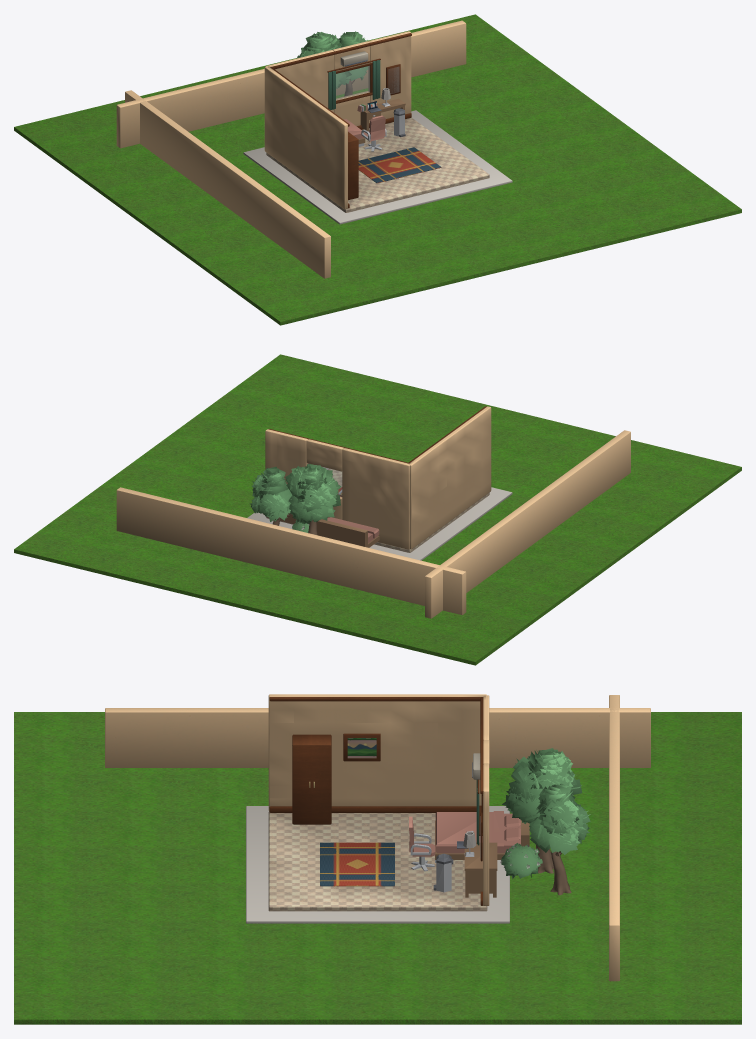
The model's file is kamar_art_large.glb.
The picture shows the model from 3 angles, top to bottom: view 1: azimuth 30°, elevation 25°; view 2: azimuth 150°, elevation 25°; view 3: azimuth 270°, elevation 25°; orthographic projection. The views are drawn at different scales.
Visible parts, largest first — view 1: OuterYard, YardFenceLeft, YardFenceBack, WallLeft, FloorSlab, YardPatio, WallBack_Right, CozyRug, WallBack_Left, WinGlass, CommonTree_1, WardrobeBody (+3 smaller); view 2: OuterYard, YardFenceBack, YardFenceLeft, WallLeft, WallBack_Left, CommonTree_1, YardPatio, CommonTree_2, WallBack_Right, bedDouble(Clone), WallBack_Top, FloorSlab; view 3: OuterYard, WallLeft, YardFenceLeft, FloorSlab, YardPatio, WardrobeBody, CommonTree_2, CommonTree_1, CozyRug, YardFenceBack, cover, desk(Clone) (+8 smaller).
Boxes of the visible parts, x1=… form: OuterYard: x1=14, y1=14, x2=741, y2=325; YardFenceLeft: x1=125, y1=90, x2=330, y2=278; YardFenceBack: x1=116, y1=20, x2=466, y2=148; WallLeft: x1=264, y1=66, x2=347, y2=209; FloorSlab: x1=266, y1=117, x2=489, y2=212; YardPatio: x1=243, y1=110, x2=512, y2=224; WallBack_Right: x1=368, y1=31, x2=411, y2=119; CozyRug: x1=358, y1=147, x2=441, y2=183; WallBack_Left: x1=265, y1=50, x2=334, y2=112; WinGlass: x1=336, y1=66, x2=369, y2=99; CommonTree_1: x1=297, y1=32, x2=351, y2=88; WardrobeBody: x1=348, y1=132, x2=358, y2=200; OuterYard: x1=14, y1=354, x2=741, y2=665; YardFenceBack: x1=116, y1=487, x2=466, y2=614; YardFenceLeft: x1=425, y1=430, x2=630, y2=618; WallLeft: x1=409, y1=406, x2=491, y2=549; WallBack_Left: x1=342, y1=448, x2=409, y2=549; CommonTree_1: x1=285, y1=464, x2=341, y2=534; YardPatio: x1=247, y1=467, x2=512, y2=560; CommonTree_2: x1=249, y1=466, x2=291, y2=525; WallBack_Right: x1=265, y1=429, x2=308, y2=484; bedDouble(Clone): x1=316, y1=519, x2=379, y2=547; WallBack_Top: x1=306, y1=439, x2=343, y2=471; FloorSlab: x1=266, y1=468, x2=489, y2=552; OuterYard: x1=14, y1=712, x2=741, y2=1024; WallLeft: x1=268, y1=694, x2=486, y2=811; YardFenceLeft: x1=105, y1=708, x2=650, y2=767; FloorSlab: x1=268, y1=811, x2=487, y2=911; YardPatio: x1=246, y1=806, x2=509, y2=923; WardrobeBody: x1=292, y1=734, x2=331, y2=824; CommonTree_2: x1=529, y1=783, x2=590, y2=895; CommonTree_1: x1=502, y1=748, x2=582, y2=873; CozyRug: x1=320, y1=842, x2=394, y2=886; YardFenceBack: x1=609, y1=695, x2=619, y2=981; cover: x1=435, y1=811, x2=503, y2=852; desk(Clone): x1=464, y1=842, x2=497, y2=897.
Size of the model in its own units: 16 by 3.1 by 16.
38 materials, 9 textured.
